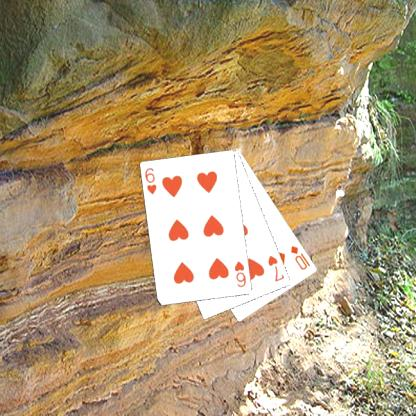10D: (288, 242, 312, 272)
6H: (232, 258, 248, 289), (142, 165, 158, 196)
7H: (265, 252, 286, 283)
